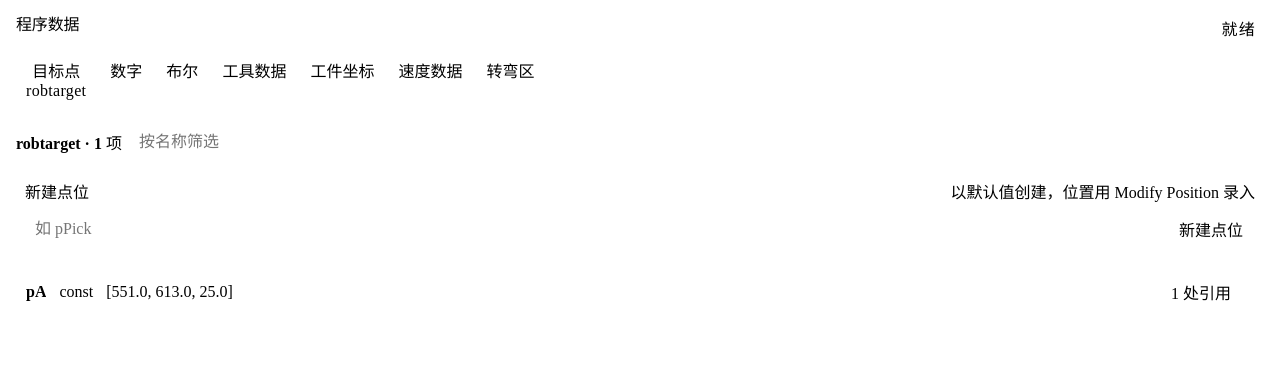
Test: ProgramDataPanel — shell 协调与 Tab 切换 › 子组件 ProgramDataTargetList 的 edit-error 事件更新 shell 错误横幅
The width and height of the screenshot is (1272, 370).
Type "pA" into the field named "新点位名称" at (592, 229), box [25,210,1159,248]
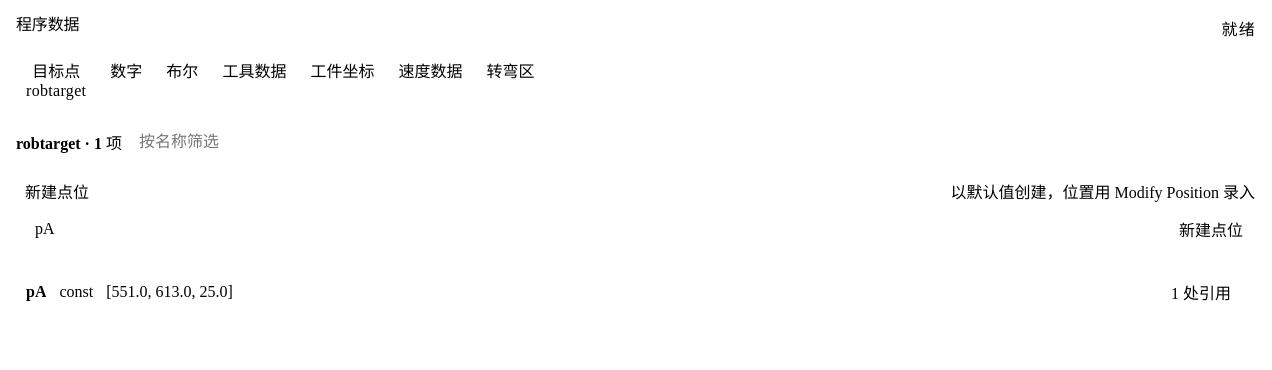
Click the button "新建点位" at (1211, 229), box [1167,210,1255,248]
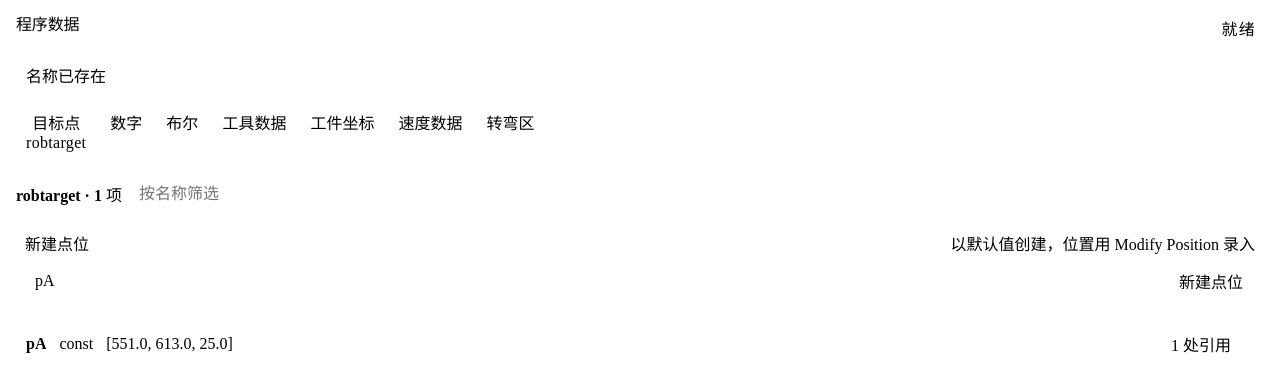
Expected: the text "名称已存在" is shown, [26,68,106,85]
